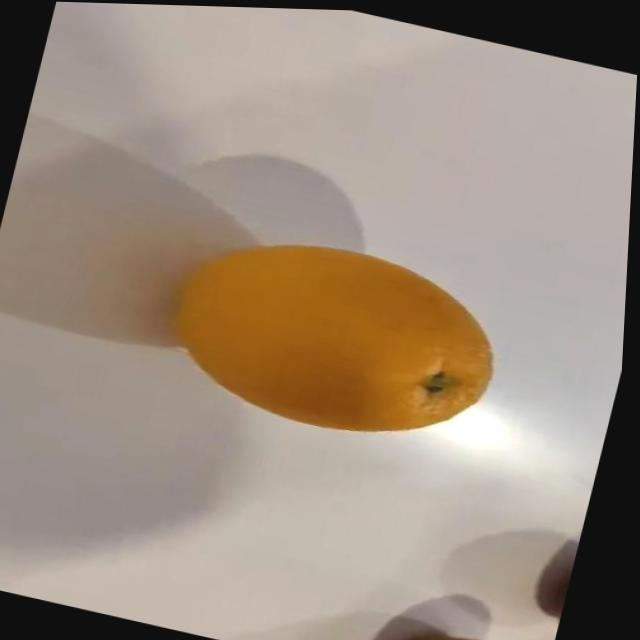Orange: (159, 213, 521, 460)
